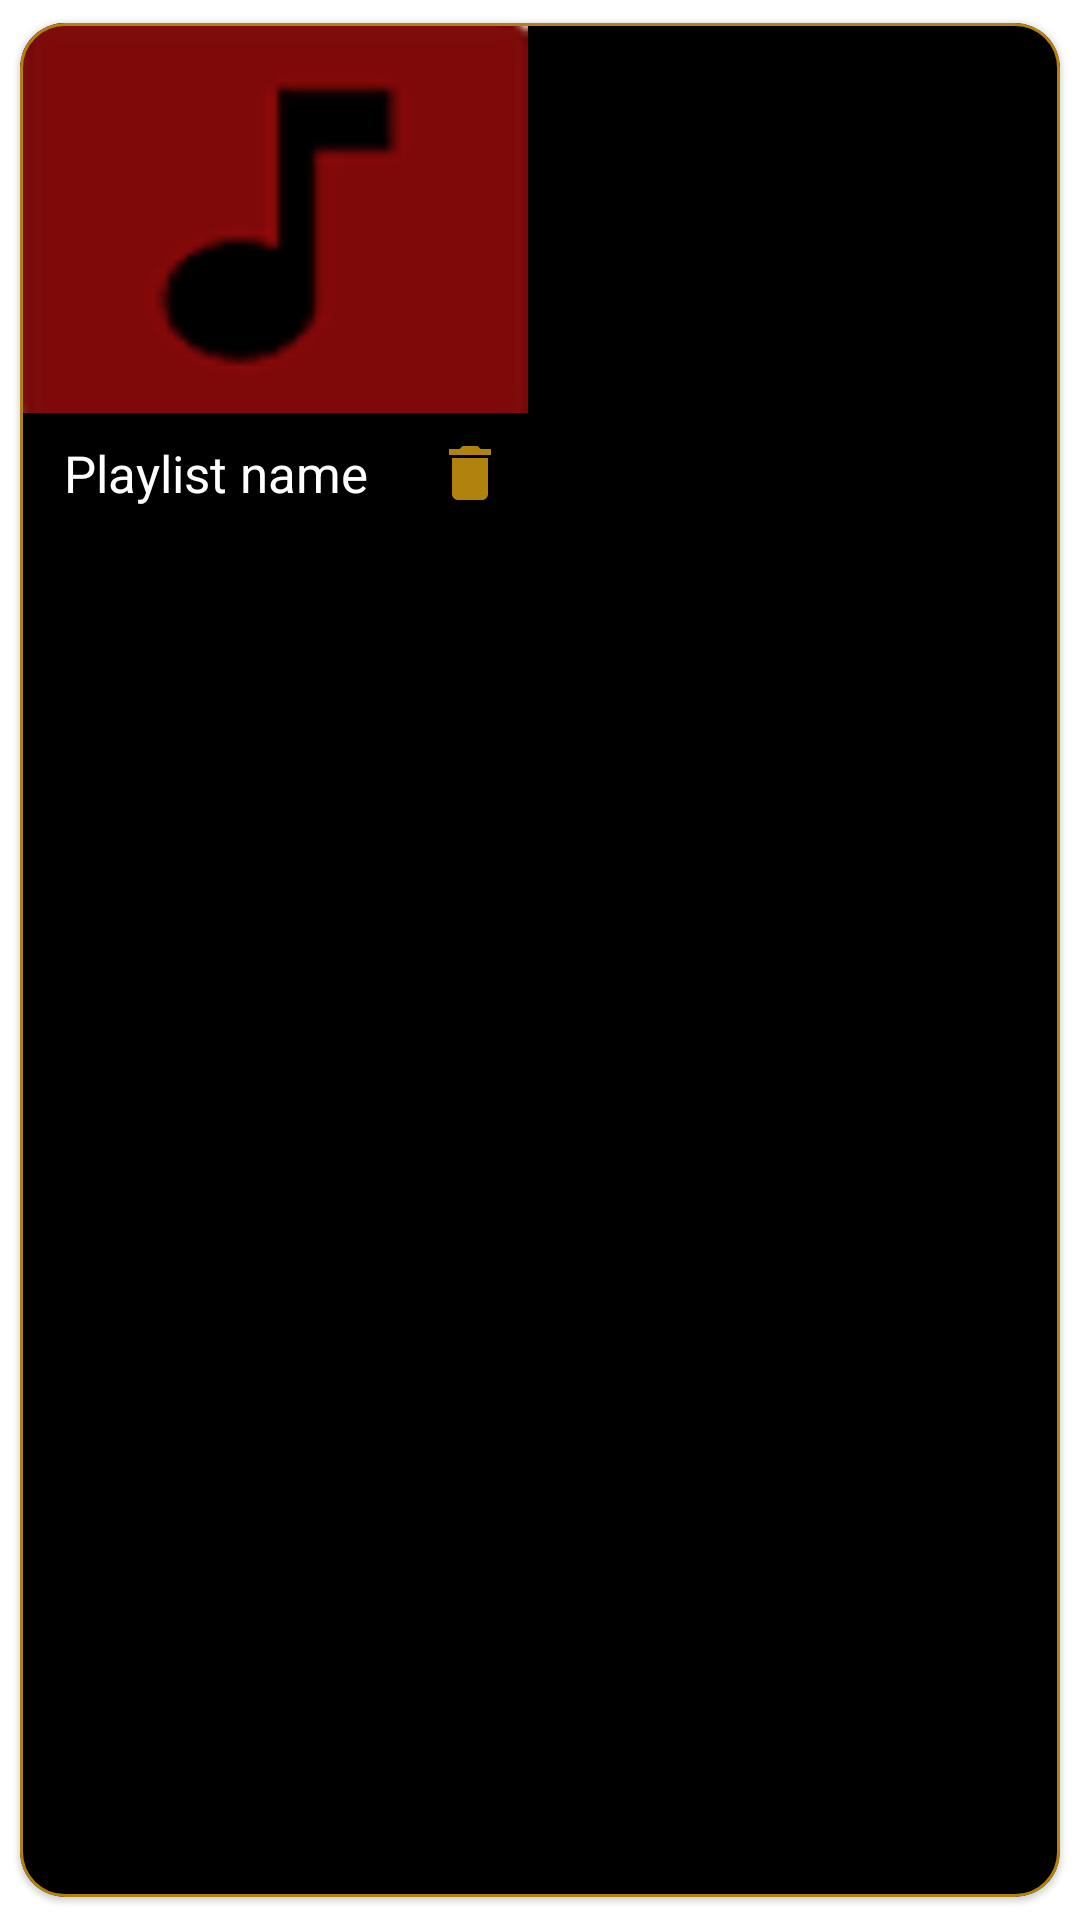

Named icons in this screenshot (1080*1920) and their bounding boxes, (x1, y1, x2, y2):
delete: (449, 446, 491, 500)
